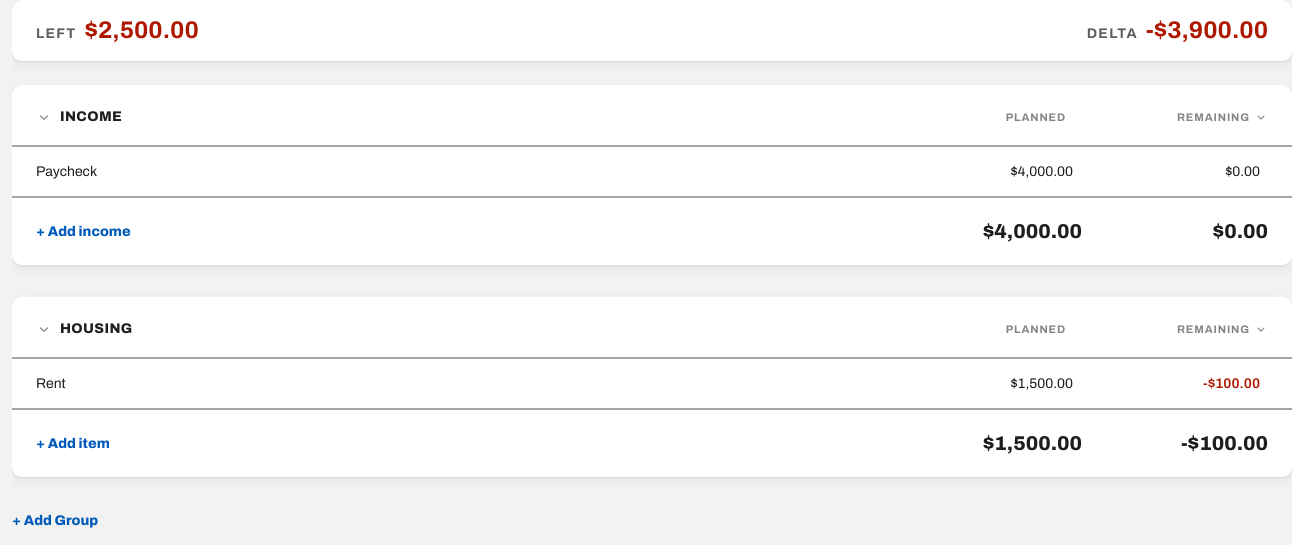
Test case: BudgetPane (Modernist restyle) › renders each group as a block with its column labels and metric dropdown
The width and height of the screenshot is (1292, 545).
Expected: the heading "Housing" is shown, [60, 319, 133, 339]
Expected: the text "Planned" is shown 2 times, [1006, 109, 1066, 126]; [1006, 321, 1066, 338]
Click the 1st button "Remaining". click: click(1183, 117)
box: [1098, 109, 1268, 126]
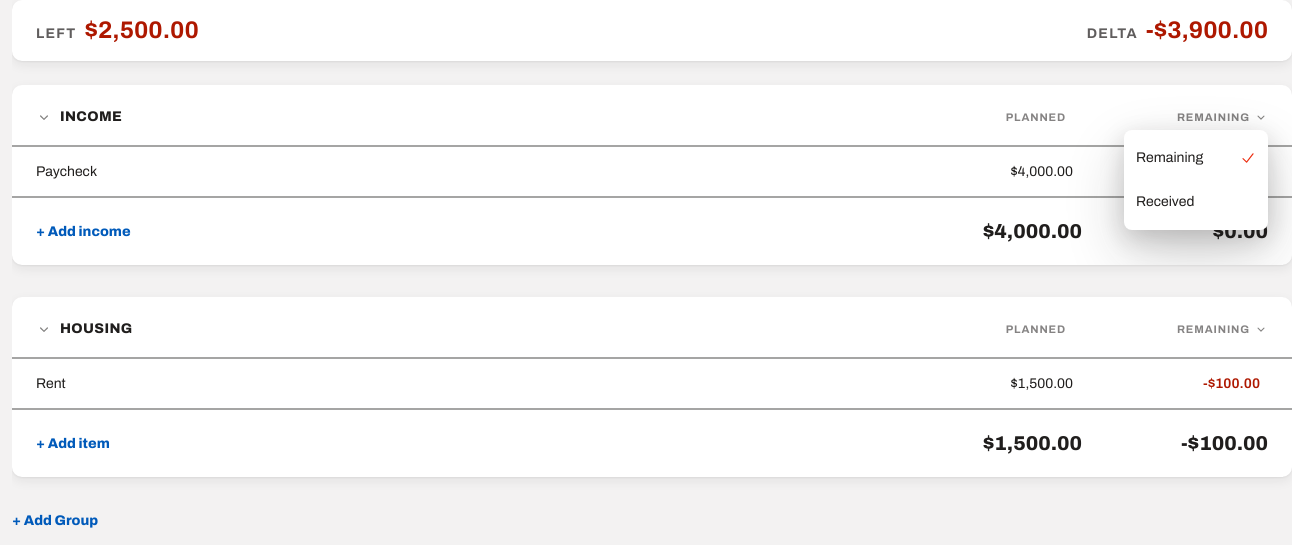
Expected: the text "Received" is shown, [1136, 192, 1194, 212]
Click the button "Remaining" in the row of "Housing". click: click(1183, 329)
box: [1098, 321, 1268, 338]
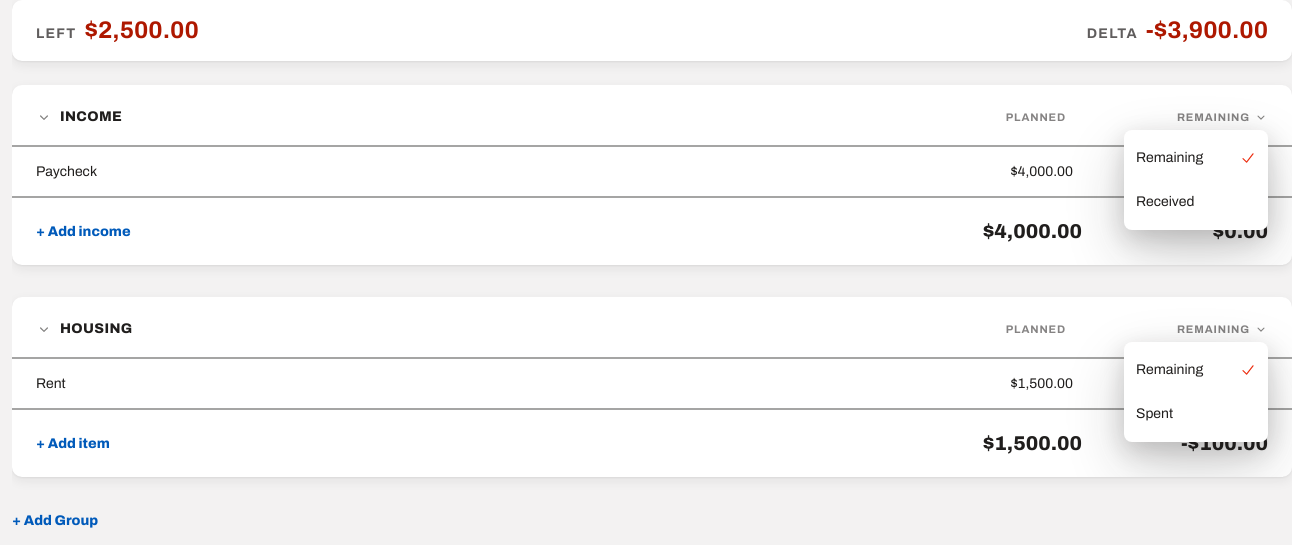
Expected: the text "Spent" is shown, [1136, 404, 1173, 424]
